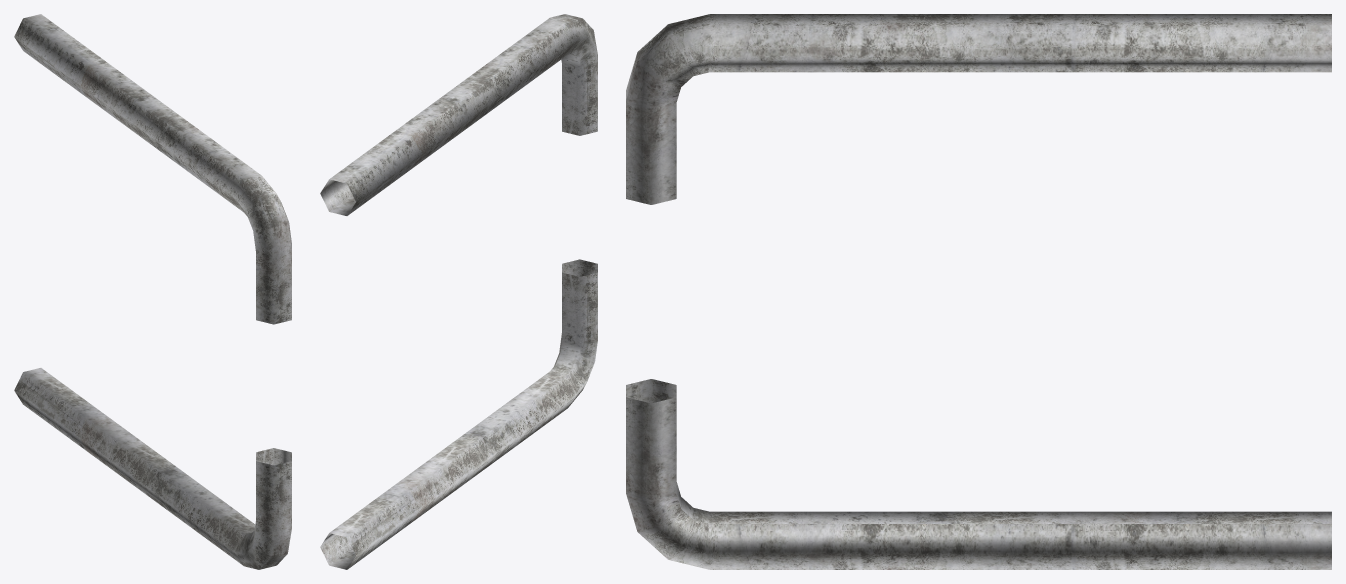
Rendered from pedestrian_lamp_holder.fbx.
The picture shows the model from 3 angles, left to right: view 1: azimuth 30°, elevation 25°; view 2: azimuth 150°, elevation 25°; view 3: azimuth 270°, elevation 25°; orthographic projection. The views are drawn at different scales.
Visible parts, largest first — view 1: pedestrian_lamp_holder; view 2: pedestrian_lamp_holder; view 3: pedestrian_lamp_holder.
Part boxes in pixels (x1=…): pedestrian_lamp_holder: x1=14, y1=14, x2=291, y2=569; pedestrian_lamp_holder: x1=320, y1=14, x2=597, y2=569; pedestrian_lamp_holder: x1=626, y1=14, x2=1331, y2=569.
Size of the model in its own units: 0.0788 by 0.8093 by 0.9522.
